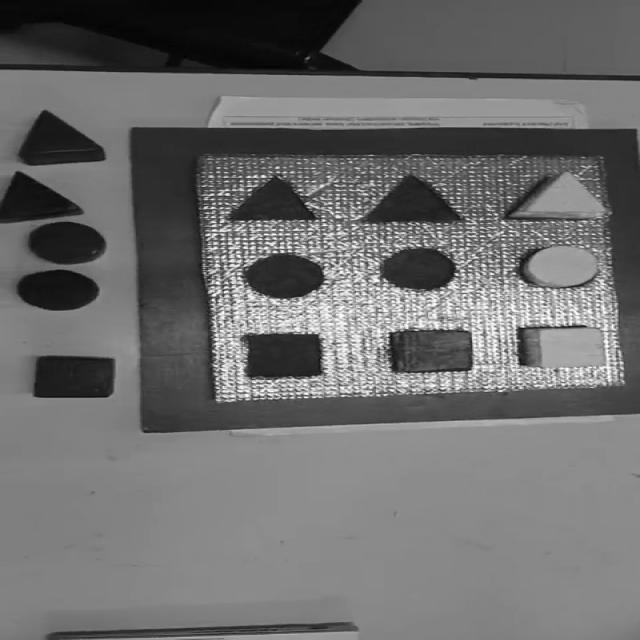bcircle: (17, 268, 100, 310), (28, 220, 106, 264)
bcube: (32, 354, 116, 399)
btriangle: (17, 108, 104, 166), (0, 171, 83, 222)
mtcircle: (243, 253, 326, 299), (381, 247, 458, 291)
mtcube: (243, 332, 323, 378)
mttriangle: (359, 174, 464, 224), (228, 175, 321, 223)
rcube: (391, 329, 476, 375)
wb: (192, 155, 627, 402)
ycircle: (520, 245, 600, 288)
ycube: (518, 325, 608, 369)
ytriangle: (506, 171, 611, 220)
